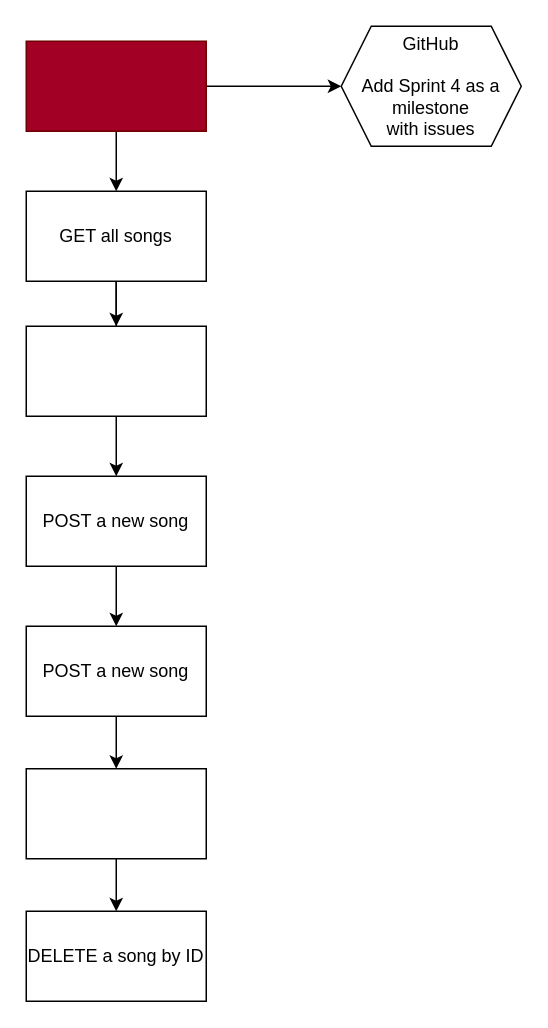
Some shapes in this 548 by 1028 pixel diagram are drawn without their labels. Each missing label, with the centre of its shape:
GET song by id: point 115,370
PATCH edit a song: point 115,813
SPRINT 4 API: point 115,85
